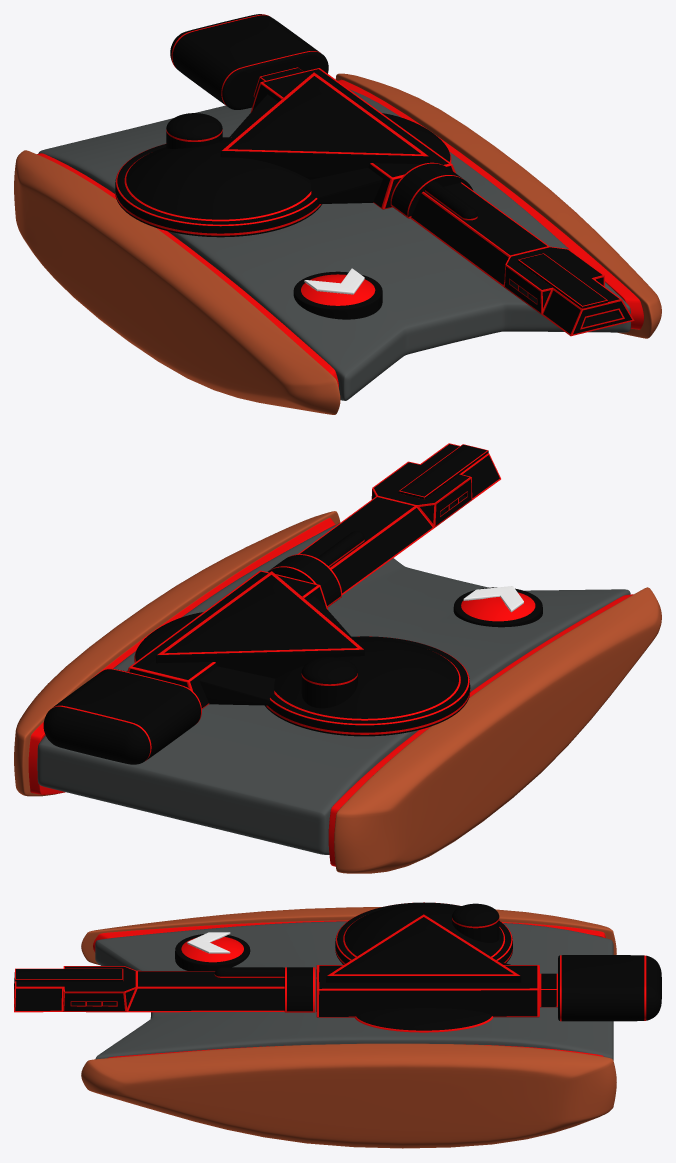
The model's file is tank_-_tron_1982.glb.
3 renders of one model, top to bottom at view 1: azimuth 30°, elevation 25°; view 2: azimuth 150°, elevation 25°; view 3: azimuth 270°, elevation 25°, orthographic. The views are drawn at different scales.
Visible parts, largest first — view 1: polySurface21, polySurface17, polySurface5, polySurface11, polySurface3, polySurface16, polySurface13, polySurface10, polySurface9, polySurface15, polySurface4, polySurface2 (+8 smaller); view 2: polySurface21, polySurface17, polySurface5, polySurface13, polySurface11, polySurface16, polySurface3, polySurface10, polySurface9, polySurface4, polySurface15, polySurface8 (+8 smaller); view 3: polySurface16, polySurface21, polySurface11, polySurface9, polySurface5, polySurface13, polySurface17, polySurface3, polySurface6, polySurface8, polySurface12, polySurface2 (+8 smaller).
Boxes of the visible parts, x1,y1,x2,y2 form: polySurface21: (38, 89, 630, 400); polySurface17: (14, 150, 340, 414); polySurface5: (220, 72, 429, 179); polySurface11: (410, 182, 634, 336); polySurface3: (124, 138, 311, 221); polySurface16: (335, 73, 661, 338); polySurface13: (170, 14, 328, 109); polySurface10: (115, 137, 322, 237); polySurface9: (250, 68, 455, 209); polySurface15: (337, 79, 643, 329); polySurface4: (229, 94, 382, 203); polySurface2: (390, 162, 473, 218); polySurface21: (37, 523, 630, 854); polySurface17: (334, 587, 661, 873); polySurface5: (156, 571, 364, 678); polySurface13: (43, 668, 201, 764); polySurface11: (298, 443, 500, 594); polySurface16: (14, 511, 340, 796); polySurface3: (274, 637, 460, 720); polySurface10: (264, 636, 470, 736); polySurface9: (127, 570, 328, 708); polySurface4: (199, 596, 351, 705); polySurface15: (28, 518, 335, 794); polySurface8: (301, 657, 357, 708); polySurface16: (81, 1043, 616, 1148); polySurface21: (95, 921, 613, 1060); polySurface11: (14, 966, 284, 1012); polySurface9: (316, 965, 539, 1017); polySurface5: (326, 914, 521, 982); polySurface13: (558, 955, 661, 1021); polySurface17: (81, 907, 616, 964); polySurface3: (343, 903, 504, 957); polySurface6: (355, 1008, 493, 1032); polySurface8: (452, 903, 499, 942); polySurface12: (15, 968, 123, 981); polySurface2: (284, 967, 315, 1012).
Bounding box in the file's own units: 1.41 × 0.6029 × 2.46.
